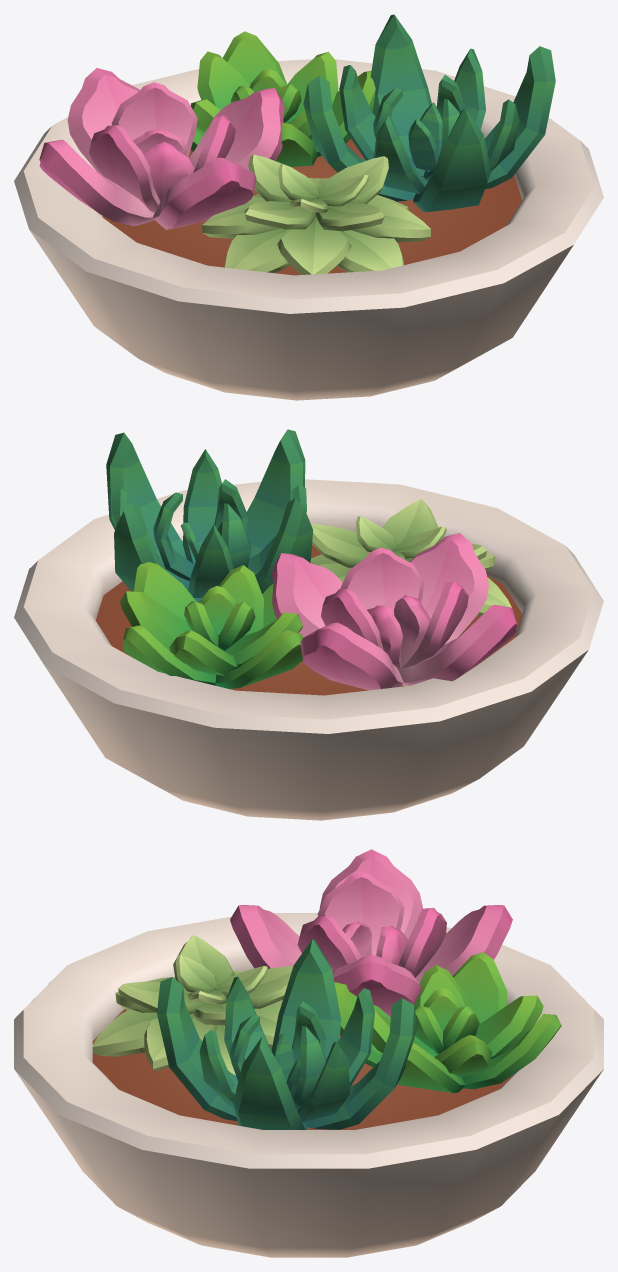
Rendered from Succulent Pot.glb.
The picture shows the model from 3 angles, top to bottom: view 1: azimuth 30°, elevation 25°; view 2: azimuth 150°, elevation 25°; view 3: azimuth 270°, elevation 25°; orthographic projection.
Parts seen in each view (by area): view 1: succulent_plant_pot_large; view 2: succulent_plant_pot_large; view 3: succulent_plant_pot_large.
Boxes of the visible parts, <box> form: succulent_plant_pot_large: <box>14,14,603,400</box>; succulent_plant_pot_large: <box>14,429,603,820</box>; succulent_plant_pot_large: <box>14,849,603,1257</box>.
Bounding box in the file's own units: 1.49 × 0.6802 × 1.49.
1 material, 1 textured.
